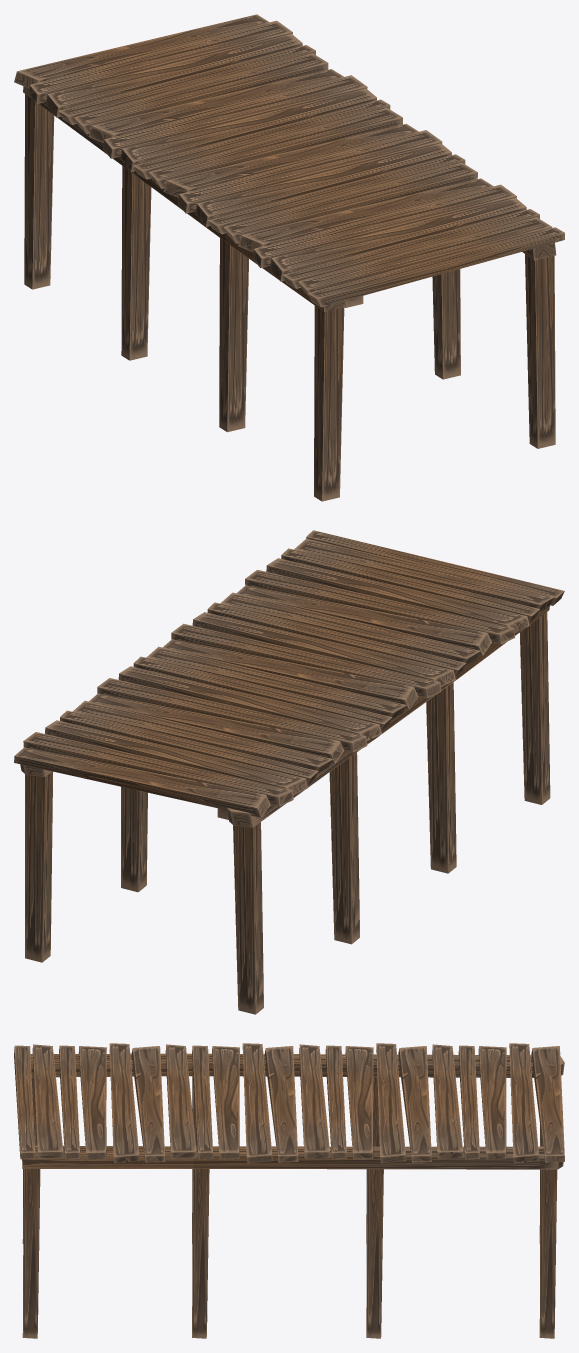
The model's file is pierA.fbx.
3 renders of one model, top to bottom at view 1: azimuth 30°, elevation 25°; view 2: azimuth 150°, elevation 25°; view 3: azimuth 270°, elevation 25°, orthographic. The views are drawn at different scales.
Visible parts, largest first — view 1: pierA; view 2: pierA; view 3: pierA.
Boxes of the visible parts, x1=… form: pierA: x1=14, y1=14, x2=564, y2=501; pierA: x1=14, y1=530, x2=564, y2=1014; pierA: x1=14, y1=1043, x2=564, y2=1338.
Size of the model in its own units: 308 by 242 by 637.
1 material, 1 textured.
